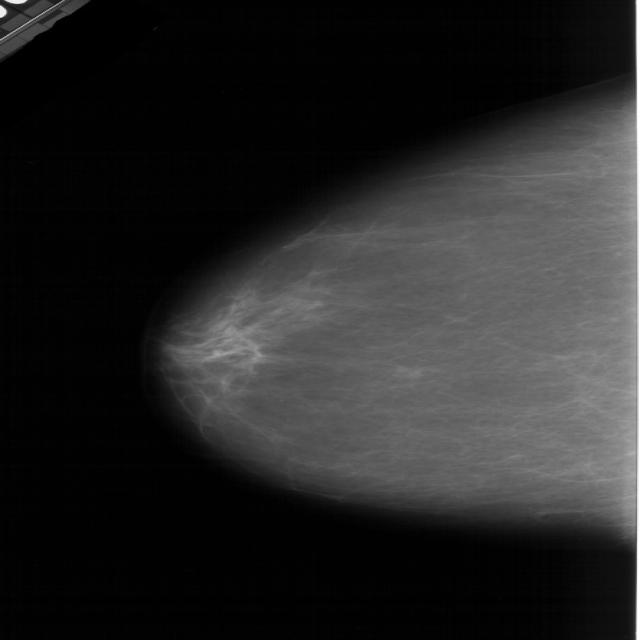tumour: (392, 363, 421, 377)
